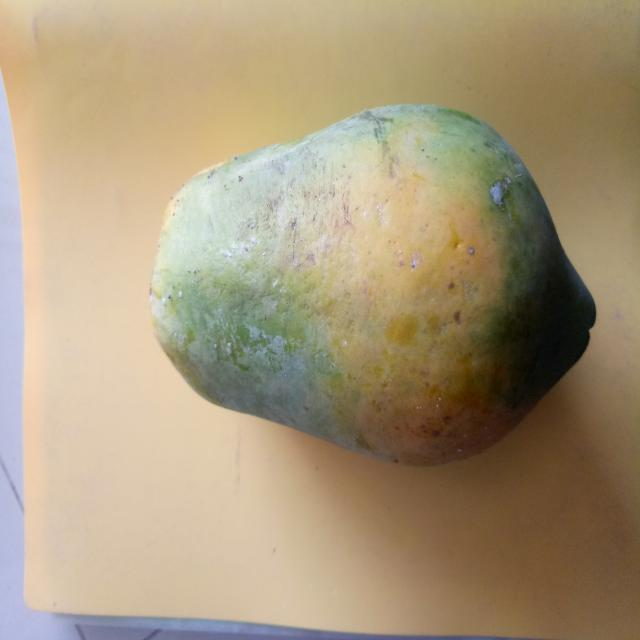Pepaya rippen: (135, 96, 602, 482)
